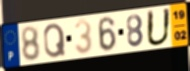3: (74, 18, 93, 57)
6: (96, 15, 118, 53)
8: (20, 26, 41, 62), (126, 14, 144, 48)
Q: (42, 22, 68, 60)
U: (145, 7, 173, 48)
